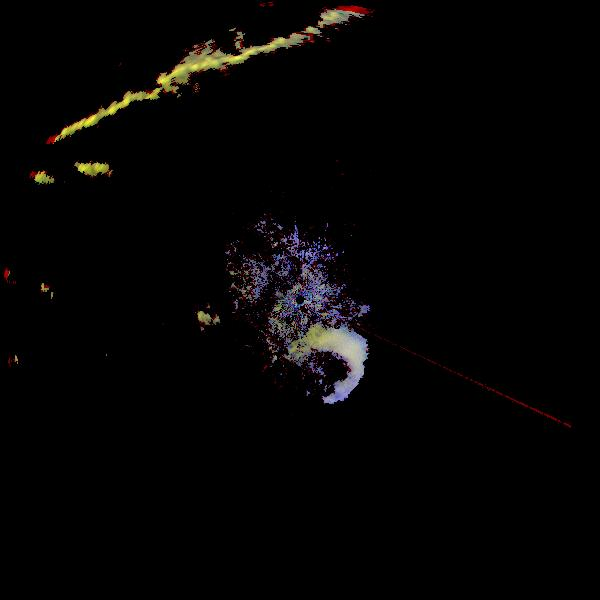roost: (241, 299, 388, 446)
